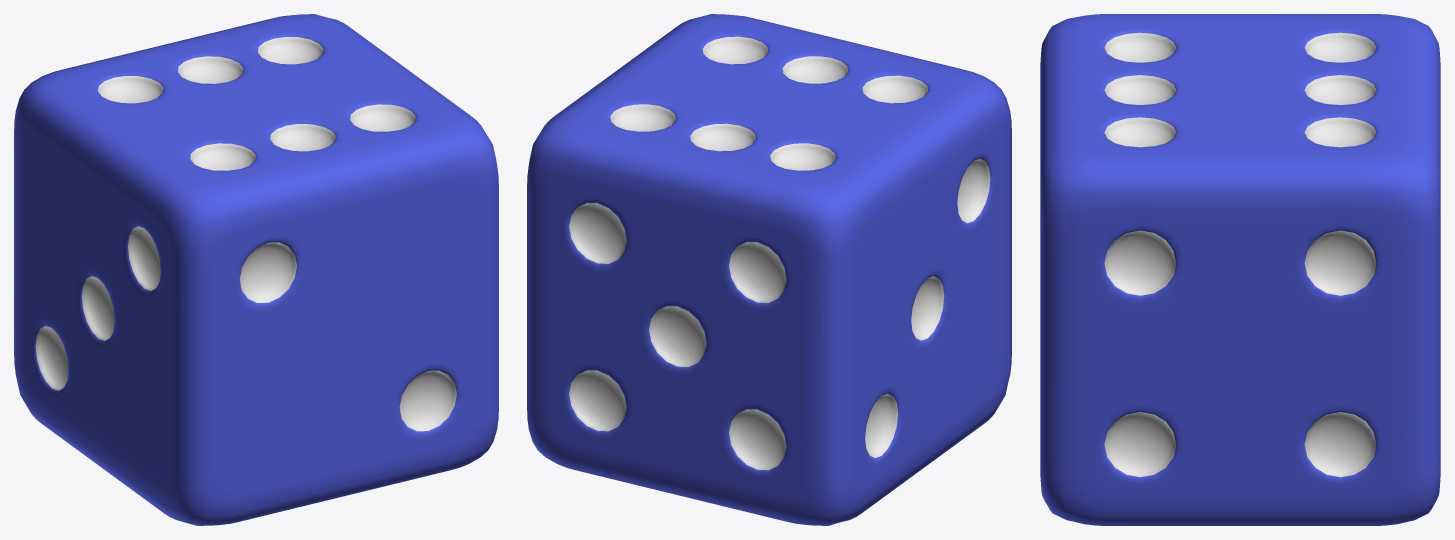
File: Dice_D6_dots.fbx
The picture shows the model from 3 angles, left to right: view 1: azimuth 30°, elevation 25°; view 2: azimuth 150°, elevation 25°; view 3: azimuth 270°, elevation 25°; orthographic projection. The views are drawn at different scales.
Parts seen in each view (by area): view 1: Cube; view 2: Cube; view 3: Cube.
Boxes of the visible parts, x1=… form: Cube: x1=14, y1=14, x2=498, y2=525; Cube: x1=527, y1=14, x2=1011, y2=525; Cube: x1=1040, y1=14, x2=1440, y2=525.
Size of the model in its own units: 200 by 200 by 200.
